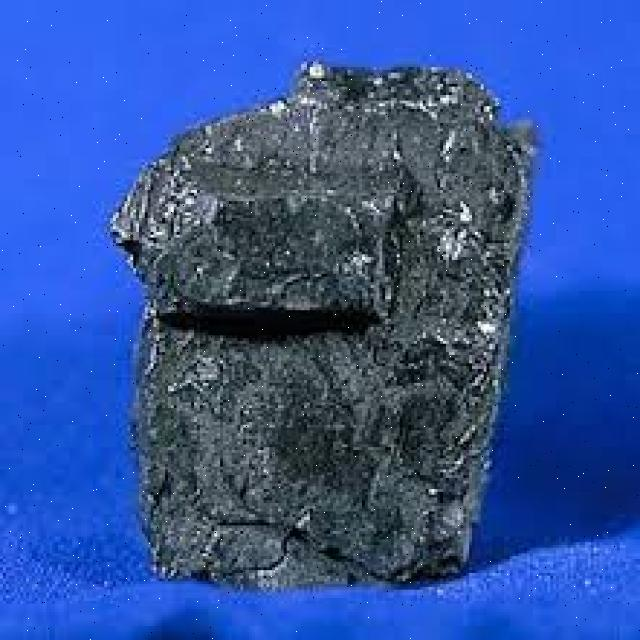Sedimentary: (107, 47, 539, 615)
